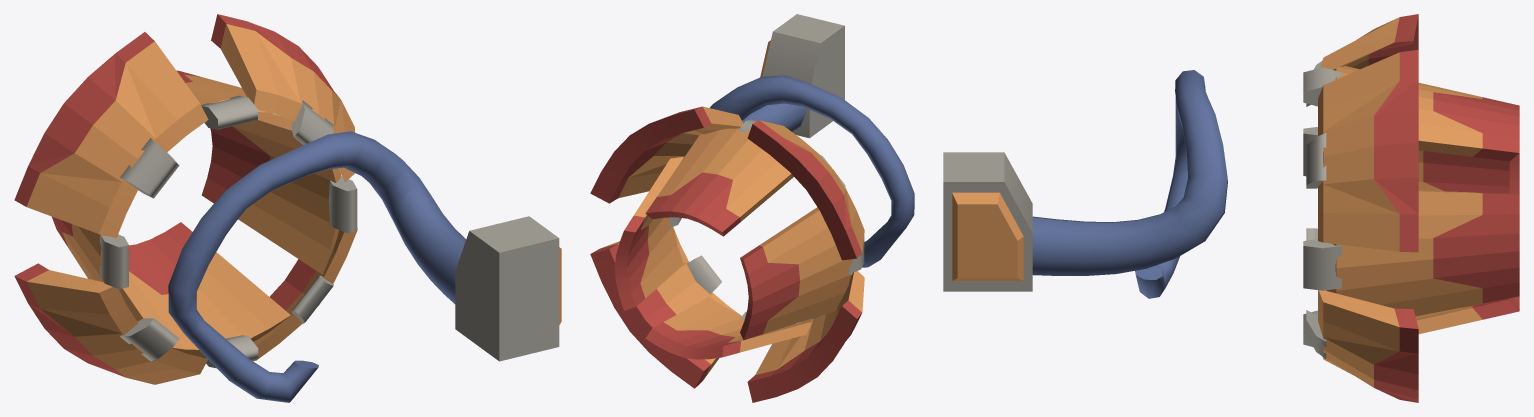
Rendered from Upgrade_2.FBX.
3 views of the same model, side by side, from view 1: azimuth 30°, elevation 25°; view 2: azimuth 150°, elevation 25°; view 3: azimuth 270°, elevation 25° (orthographic). The views are drawn at different scales.
Visible parts, largest first — view 1: Upgrade_2; view 2: Upgrade_2; view 3: Upgrade_2.
Part boxes in pixels (<box>): Upgrade_2: <box>14,14,561,402</box>; Upgrade_2: <box>590,14,914,402</box>; Upgrade_2: <box>943,14,1519,402</box>.
Bounding box in the file's own units: 148 × 148 × 219.
